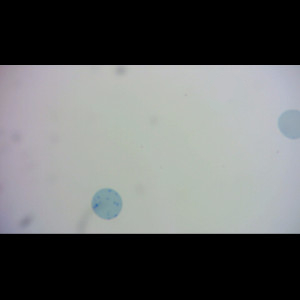aggregate reticulocyte: (89, 187, 124, 221)
